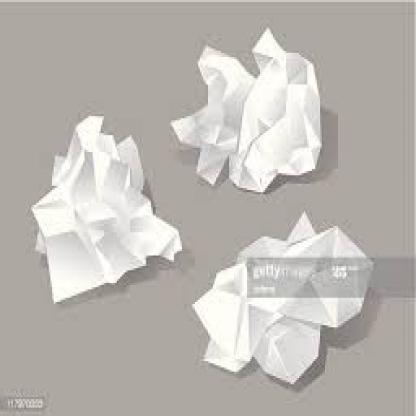paper: (192, 209, 372, 380), (30, 112, 180, 302), (168, 23, 320, 192)
